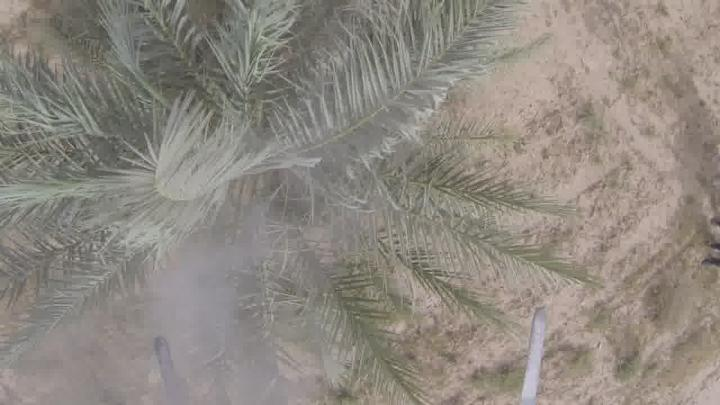Date-Palm-Crown: (33, 8, 434, 382)
